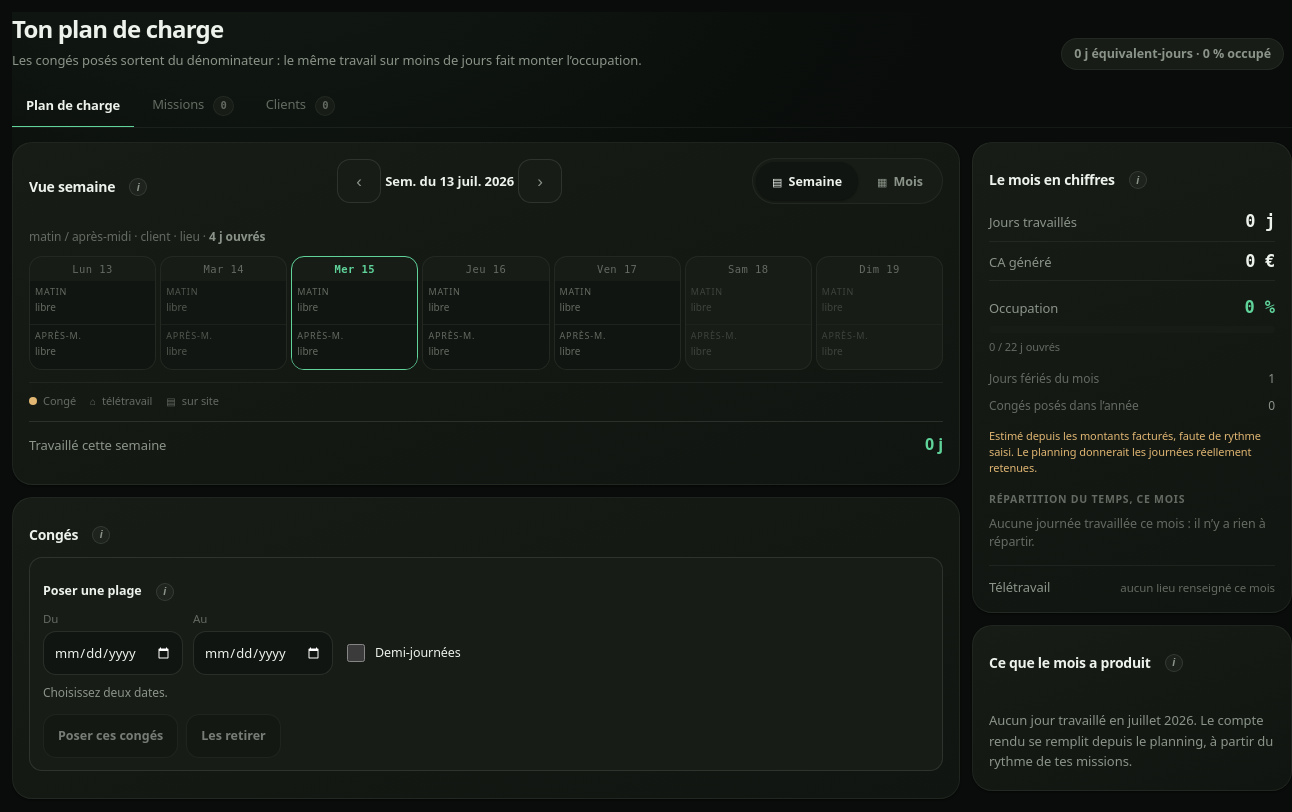
délais de paiement › affiche le délai médian et l’encours par client
Click the tab "Clients 0".
click(301, 106)  # box [252,84,350,128]
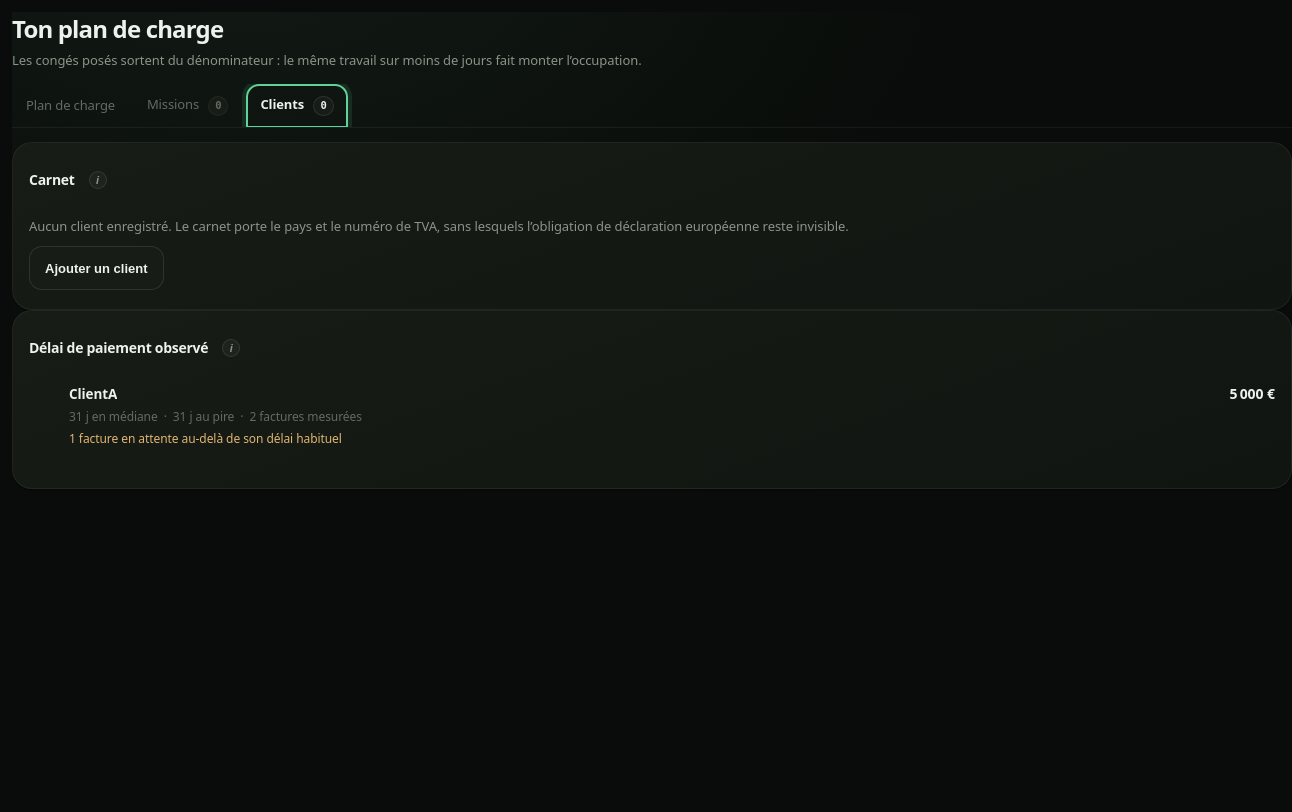
Expected: the heading "Carnet" is shown, [29,170,75,189]
Expected: the text "31 j en médiane" is shown, [69,408,158,426]
Expected: the text "5 000 €" is shown, [1230,384,1275,403]
